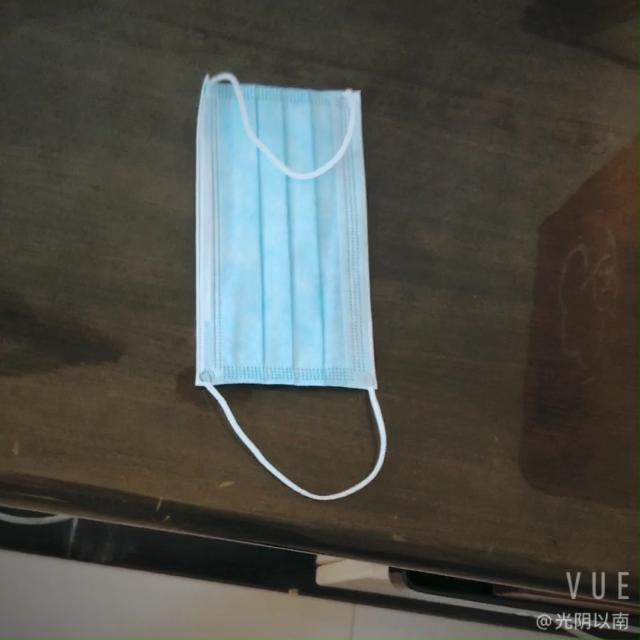non-organic waste: (173, 85, 375, 414)
